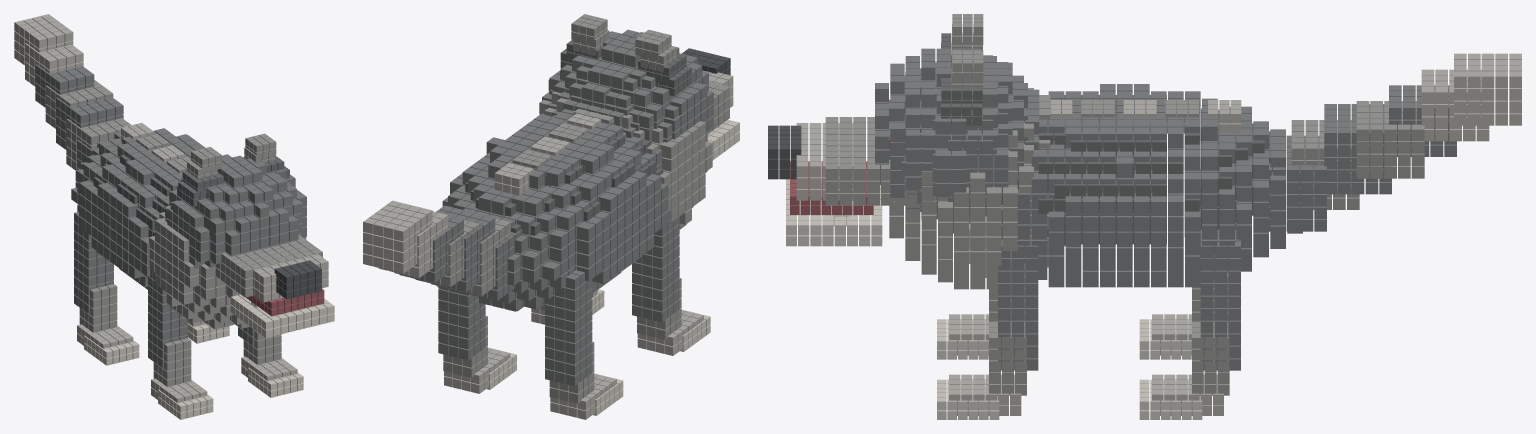
File: wolf_v4.glb
The picture shows the model from 3 angles, left to right: view 1: azimuth 30°, elevation 25°; view 2: azimuth 150°, elevation 25°; view 3: azimuth 270°, elevation 25°; orthographic projection. The views are drawn at different scales.
Visible parts, largest first — view 1: deepgrey, midgrey, warmgrey, palegrey, charcoal, black, darkred; view 2: deepgrey, midgrey, warmgrey, charcoal, palegrey, black; view 3: deepgrey, midgrey, warmgrey, charcoal, palegrey, black, darkred.
Boxes of the visible parts, bbox=[...] form: deepgrey: bbox=[35, 64, 306, 368]; midgrey: bbox=[45, 80, 322, 386]; warmgrey: bbox=[14, 14, 328, 402]; palegrey: bbox=[84, 294, 334, 419]; charcoal: bbox=[90, 138, 289, 237]; black: bbox=[274, 260, 321, 299]; darkred: bbox=[246, 289, 324, 316]; deepgrey: bbox=[394, 29, 713, 386]; midgrey: bbox=[399, 14, 729, 403]; warmgrey: bbox=[363, 70, 733, 419]; charcoal: bbox=[465, 40, 691, 239]; palegrey: bbox=[487, 119, 739, 415]; black: bbox=[681, 48, 730, 75]; deepgrey: bbox=[875, 48, 1456, 370]; midgrey: bbox=[825, 14, 1424, 395]; warmgrey: bbox=[796, 53, 1521, 415]; charcoal: bbox=[894, 33, 1270, 244]; palegrey: bbox=[786, 179, 1202, 419]; black: bbox=[768, 125, 801, 179]; darkred: bbox=[790, 161, 873, 214].
Size of the model in its own units: 1.26 by 2.32 by 4.64.
